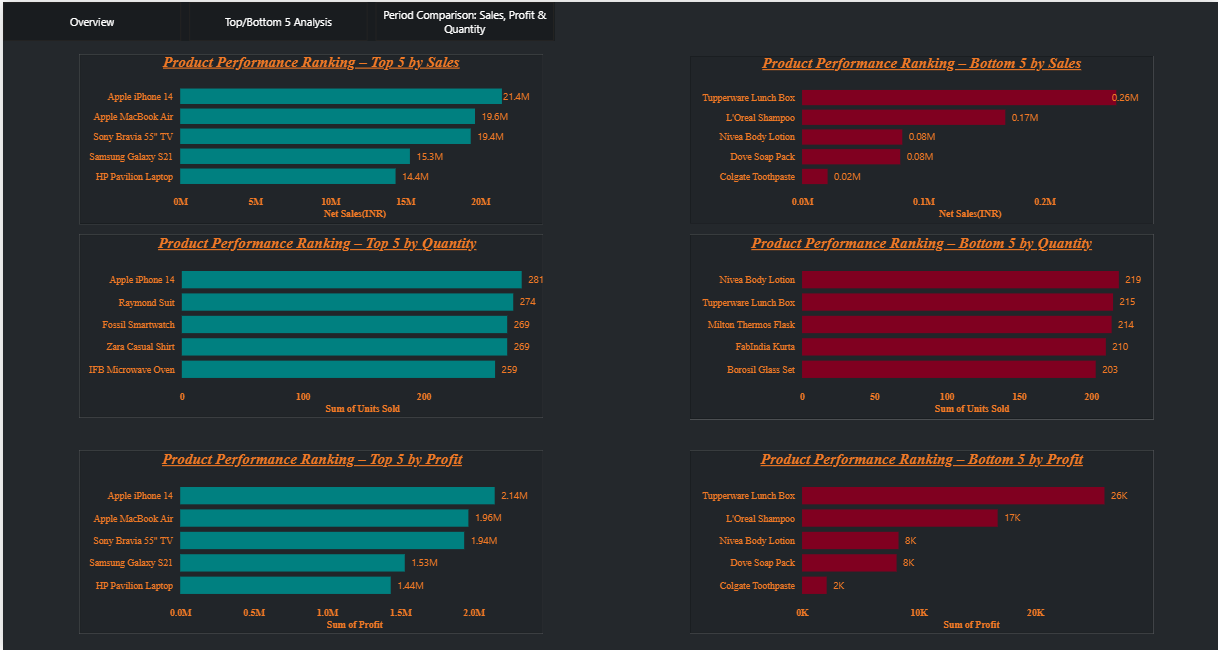

The page's visual inventory and layout, read from the dashboard file:
{"tool":"powerbi","page":{"name":"Top/Bottom 5 Analysis","canvas":[1500,800],"ordinal":1},"visuals":[{"type":"shape","box":[94.4,287,572.2,225.9],"z":0},{"type":"shape","box":[94.4,553.7,572.2,225.9],"z":1000},{"type":"shape","box":[848.1,553.7,572.2,225.9],"z":2000},{"type":"shape","box":[848.1,287,572.2,227.8],"z":3000},{"type":"shape","box":[848.1,66.7,572.2,207.4],"z":4000},{"type":"clusteredBarChart","title":"Product Performance Ranking – Bottom 5 by Sales","fields":{"Category":["Dim Product.Product Name"],"Y":["Sum(Fact Table.Net Sales(INR))"]},"box":[848.1,64.8,572.2,207.4],"z":5000},{"type":"clusteredBarChart","title":"Product Performance Ranking – Top 5 by Quantity","fields":{"Category":["Dim Product.Product Name"],"Y":["Sum(Fact Table.Units Sold)"]},"box":[94.4,287,587,225.9],"z":6000},{"type":"clusteredBarChart","title":"Product Performance Ranking – Bottom 5 by Quantity","fields":{"Category":["Dim Product.Product Name"],"Y":["Sum(Fact Table.Units Sold)"]},"box":[848.1,287,572.2,225.9],"z":7000},{"type":"clusteredBarChart","title":"Product Performance Ranking – Top 5 by Profit","fields":{"Category":["Dim Product.Product Name"],"Y":["Sum(Fact Table.Profit)"]},"box":[94.4,553.7,574.1,225.9],"z":8000},{"type":"clusteredBarChart","title":"Product Performance Ranking – Bottom 5 by Profit","fields":{"Category":["Dim Product.Product Name"],"Y":["Sum(Fact Table.Profit)"]},"box":[848.1,553.7,572.2,225.9],"z":9000},{"type":"shape","box":[94.4,64.8,572.2,209.3],"z":10000},{"type":"clusteredBarChart","title":"Product Performance Ranking – Top 5 by Sales","fields":{"Category":["Dim Product.Product Name"],"Y":["Sum(Fact Table.Net Sales(INR))"]},"box":[94.4,63,572.2,209.3],"z":11000},{"type":"pageNavigator","box":[0,0,681.5,48.1],"z":12001}]}

Visuals, with their boxes on the page's 1500x800 design canvas (x1, y1, x2, y2). These are canvas units, not pixel positions in the 1218x650 screenshot, which may show the page scaled, cropped or inside an application window:
shape: crop(94, 287, 667, 513)
shape: crop(94, 554, 667, 780)
shape: crop(848, 554, 1420, 780)
shape: crop(848, 287, 1420, 515)
shape: crop(848, 67, 1420, 274)
"Product Performance Ranking – Bottom 5 by Sales" clusteredBarChart: crop(848, 65, 1420, 272)
"Product Performance Ranking – Top 5 by Quantity" clusteredBarChart: crop(94, 287, 681, 513)
"Product Performance Ranking – Bottom 5 by Quantity" clusteredBarChart: crop(848, 287, 1420, 513)
"Product Performance Ranking – Top 5 by Profit" clusteredBarChart: crop(94, 554, 668, 780)
"Product Performance Ranking – Bottom 5 by Profit" clusteredBarChart: crop(848, 554, 1420, 780)
shape: crop(94, 65, 667, 274)
"Product Performance Ranking – Top 5 by Sales" clusteredBarChart: crop(94, 63, 667, 272)
pageNavigator: crop(0, 0, 682, 48)
